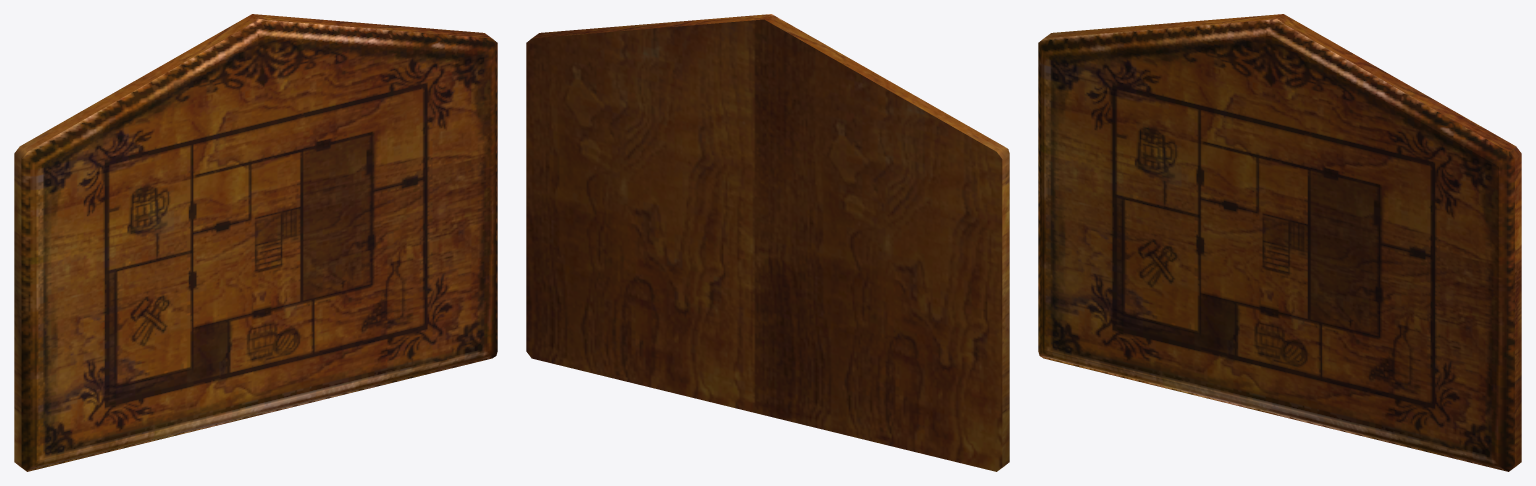
The model's file is map_05_winecellar.dae.
3 views of the same model, side by side, from view 1: azimuth 30°, elevation 25°; view 2: azimuth 150°, elevation 25°; view 3: azimuth 330°, elevation 25° (orthographic).
Visible parts, largest first — view 1: Box02; view 2: Box02; view 3: Box02.
Part boxes in pixels (left/top/right/bottom): Box02: left=14, top=14, right=497, bottom=471; Box02: left=526, top=14, right=1009, bottom=471; Box02: left=1038, top=14, right=1521, bottom=471.
Size of the model in its own units: 0.6037 by 0.0263 by 0.4797.
